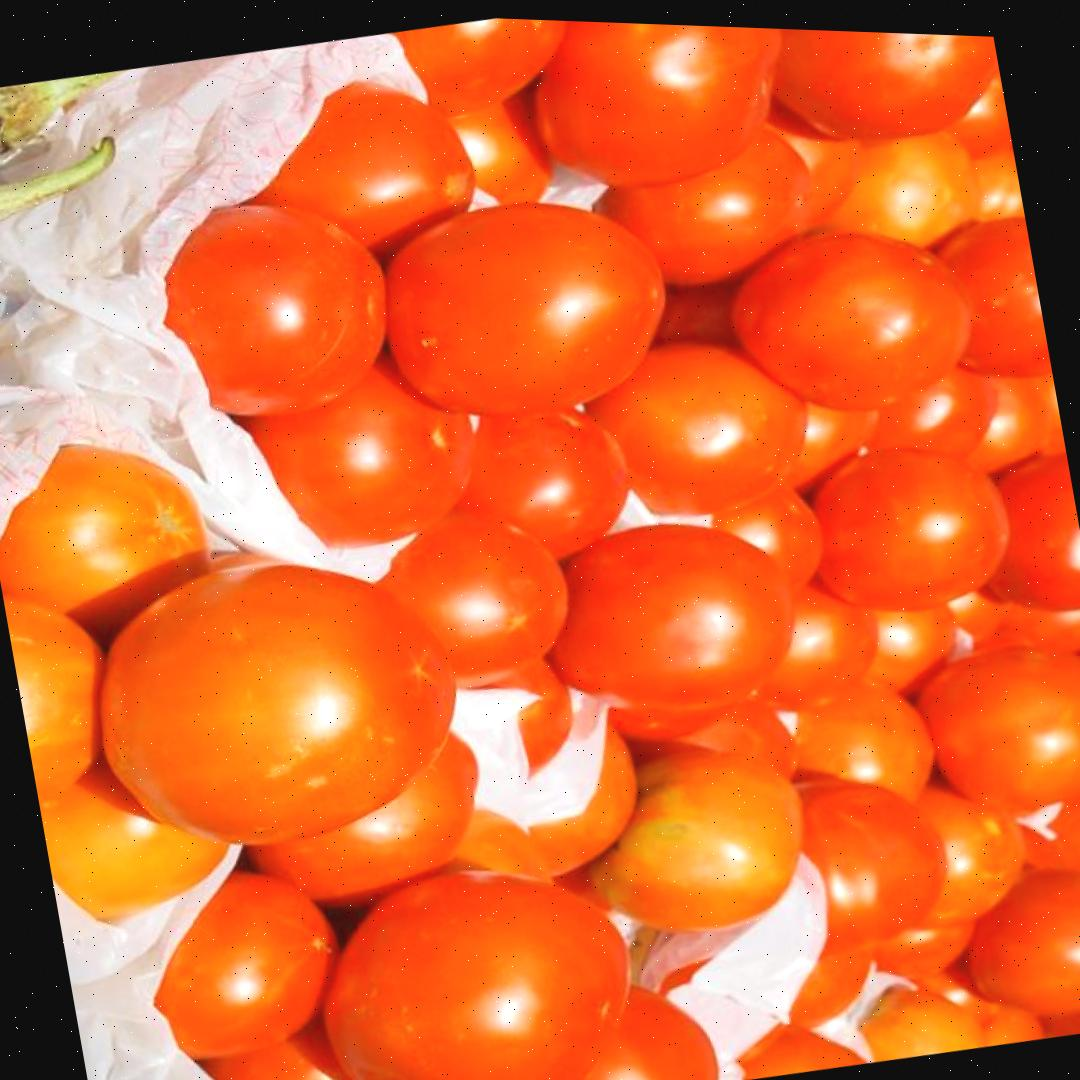matang: (73, 527, 479, 877), (303, 839, 656, 1080), (370, 175, 686, 444), (522, 499, 808, 741), (720, 207, 982, 436), (570, 724, 822, 953), (514, 19, 800, 214), (802, 427, 1022, 631), (905, 626, 1080, 829)
